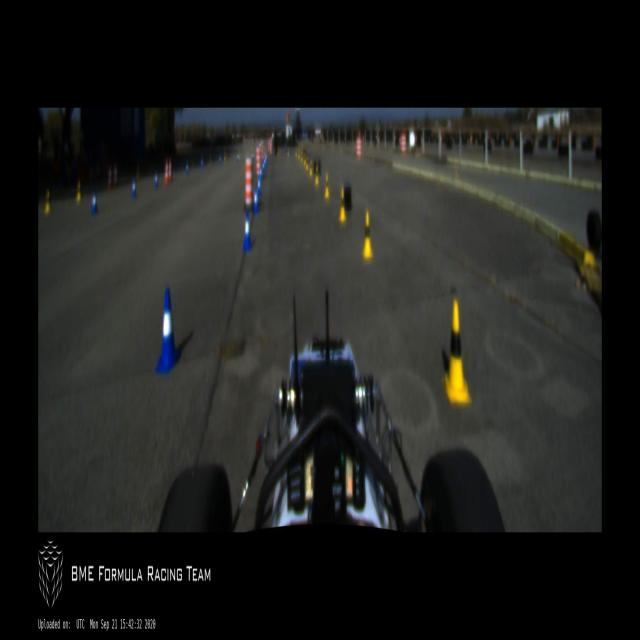blue_cone: (243, 211, 251, 251), (253, 184, 259, 216), (91, 190, 98, 215), (154, 170, 159, 188), (132, 177, 136, 198), (258, 177, 262, 195), (259, 166, 263, 182)
large_orange_cone: (107, 165, 113, 189), (168, 158, 173, 184), (114, 162, 118, 189), (164, 159, 168, 183)
yellow_cone: (443, 302, 472, 406), (362, 210, 373, 258), (339, 188, 346, 221), (44, 188, 50, 214), (324, 174, 329, 198), (76, 180, 81, 202), (315, 165, 320, 186), (310, 160, 313, 175), (306, 155, 308, 171)
